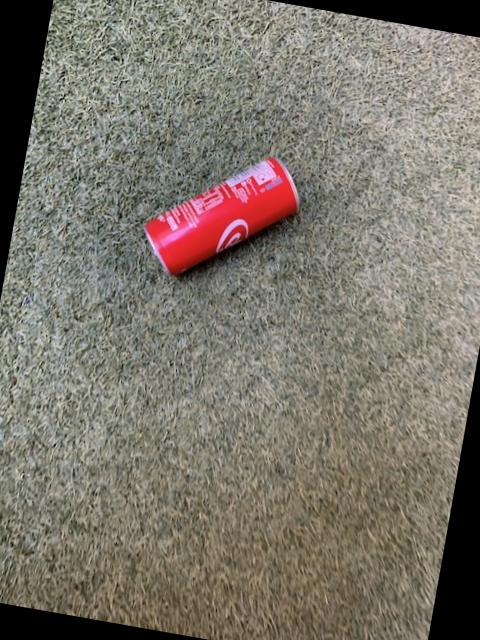metal: (147, 156, 300, 273)
